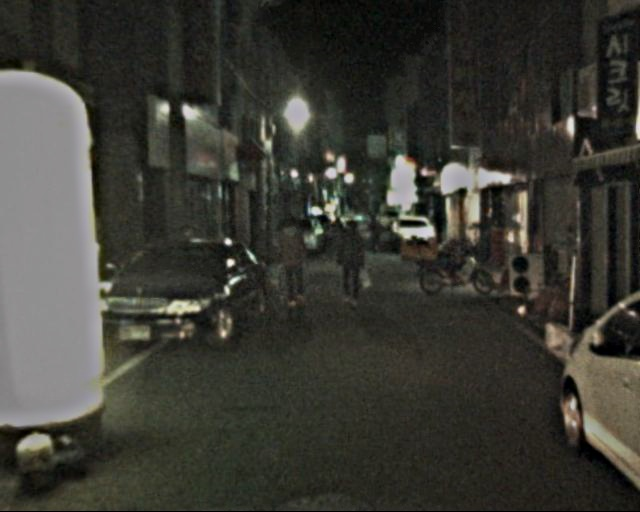person: (271, 215, 311, 307), (333, 217, 369, 305), (369, 216, 383, 251)
